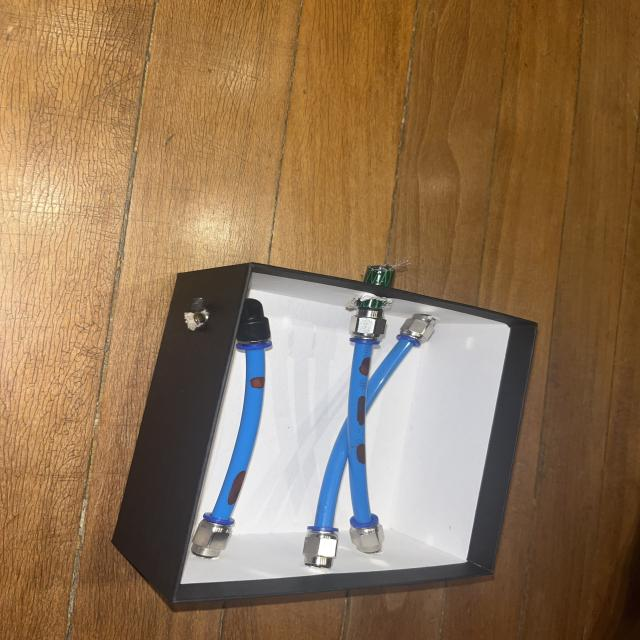hose_damage: (223, 469, 250, 508), (356, 355, 372, 380), (355, 394, 367, 427), (247, 376, 268, 390), (354, 443, 368, 464)
